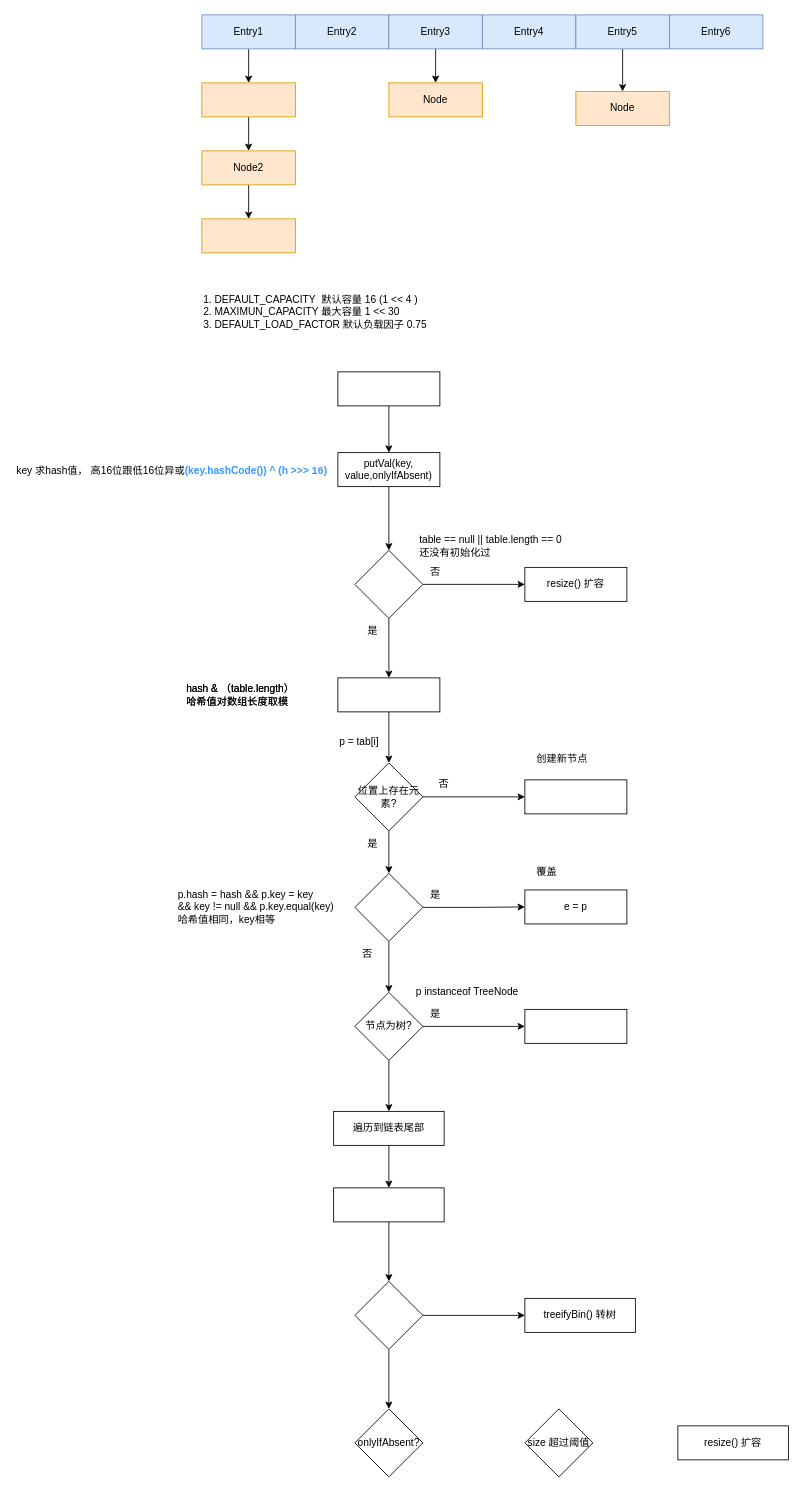
Image size: 803x1492. Some labels were removed from this diagram. The centre of each missing label's shape, as x and y in pixels:
"Node1" belongs at [248,99].
"Node3" belongs at [248,235].
"put(key, value)" belongs at [388,388].
"putTreeVal" belongs at [575,1026].
"tab[i] = newNode()" belongs at [575,796].
"table 不为空" belongs at [388,584].
"元素相同?" belongs at [388,907].
"创建新节点到链表末尾" belongs at [388,1204].
"计算位置" belongs at [388,694].
"转树阈值?" belongs at [388,1315].
